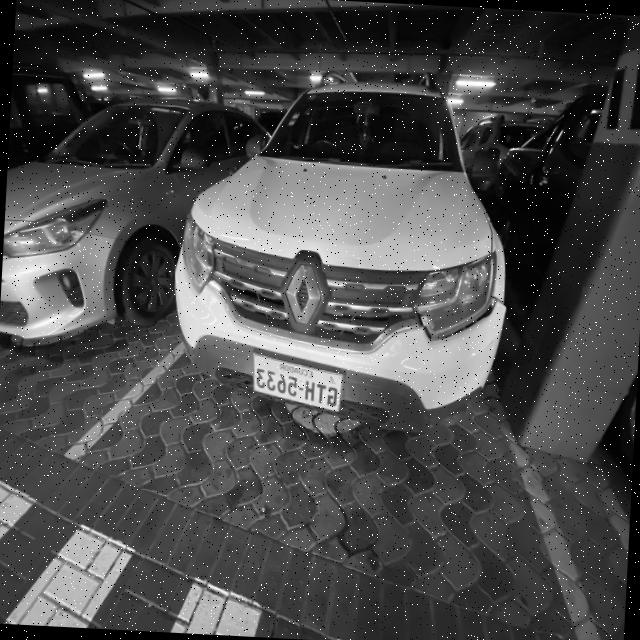Placa: (253, 355, 341, 412)
